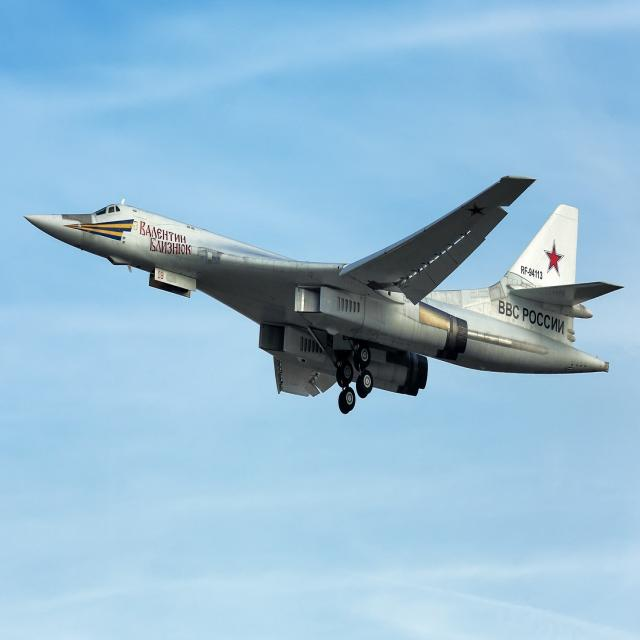Tu160: (10, 90, 640, 531)
